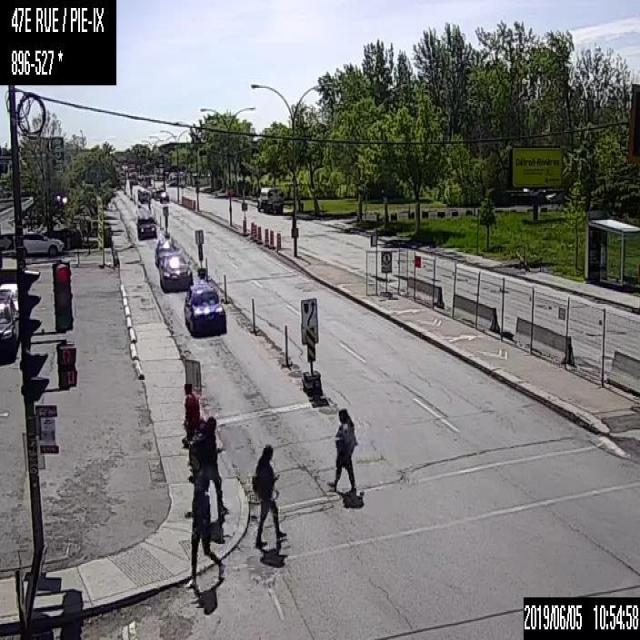construction: (280, 322, 290, 366), (248, 296, 256, 332), (222, 272, 228, 303), (203, 256, 208, 282), (250, 222, 257, 240), (264, 227, 269, 244), (276, 232, 281, 249), (269, 229, 273, 246), (257, 225, 261, 242)
pedestrian: (180, 462, 224, 590), (187, 414, 227, 517), (249, 444, 286, 547), (324, 407, 356, 493), (179, 383, 202, 447)
vehicle: (184, 282, 227, 339), (0, 291, 18, 360), (160, 253, 193, 290), (24, 229, 64, 256), (254, 184, 284, 213), (0, 281, 18, 315), (134, 212, 156, 239), (138, 187, 148, 201), (160, 191, 168, 203)
